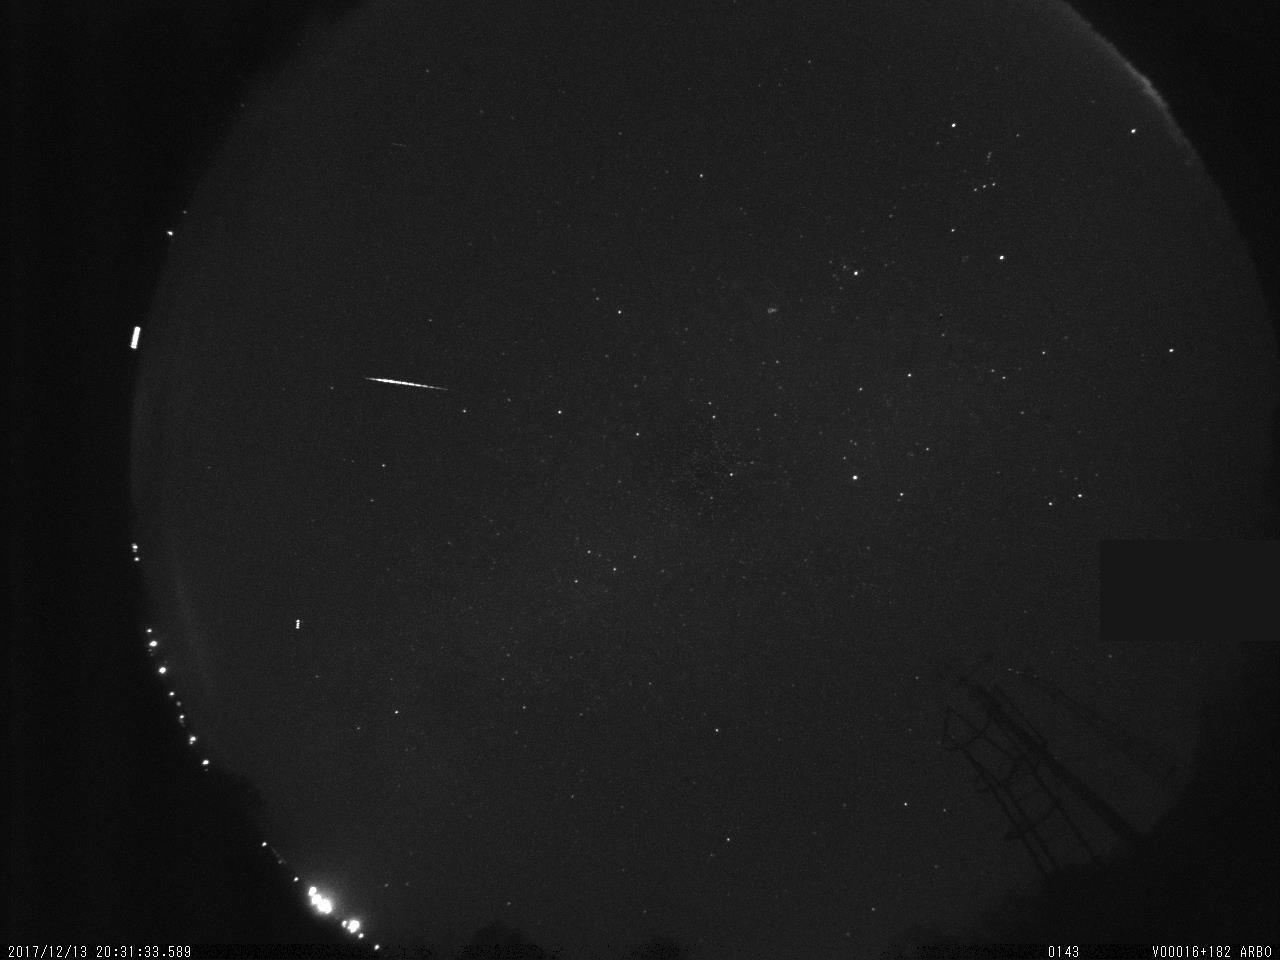Meteor: (362, 373, 451, 396)
